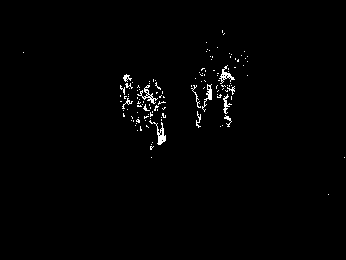person: (142, 78, 167, 151), (119, 74, 145, 143), (189, 64, 212, 127), (215, 65, 236, 129)
